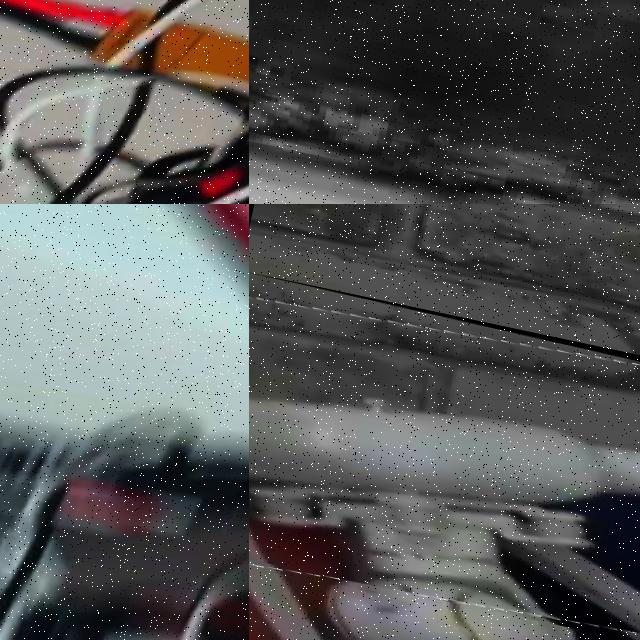drone: (249, 270, 640, 640), (0, 204, 249, 640), (0, 0, 249, 204)
